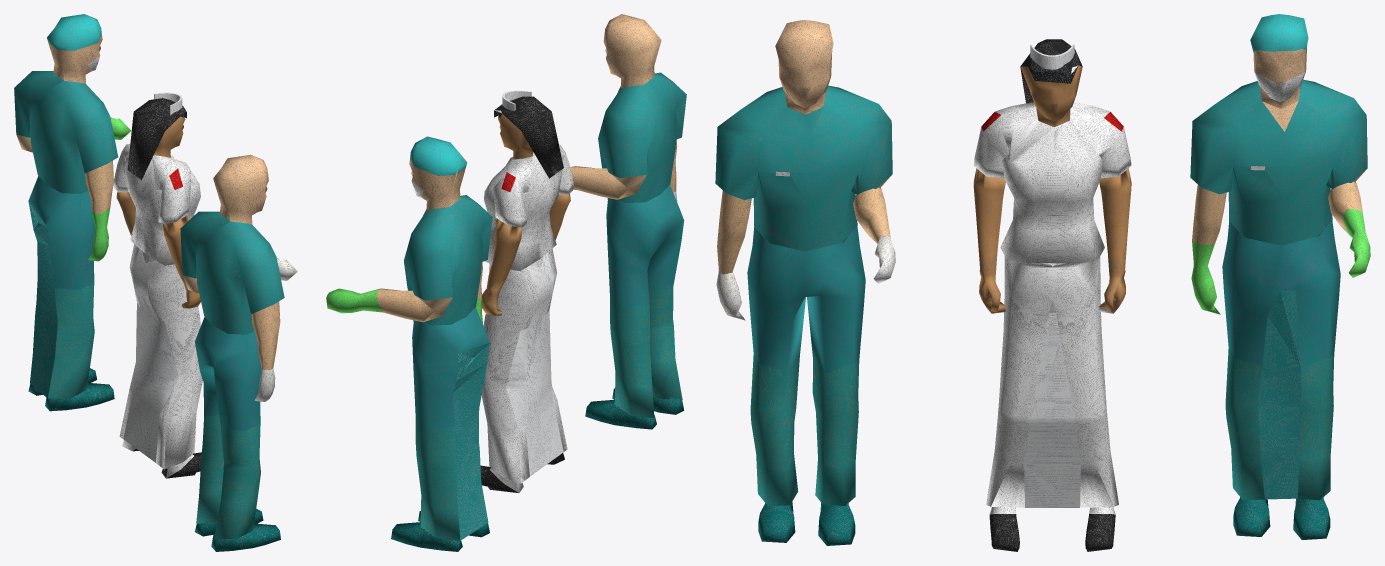
The model's file is staff.dae.
The picture shows the model from 3 angles, left to right: view 1: azimuth 30°, elevation 25°; view 2: azimuth 150°, elevation 25°; view 3: azimuth 270°, elevation 25°; orthographic projection. The views are drawn at different scales.
Visible parts, largest first — view 1: _3D_Man_Standing_1 (×9), _3D_Man_Standing_2 (×9), _3d_woman_standing (×7); view 2: _3D_Man_Standing_2 (×9), _3D_Man_Standing_1 (×8), _3d_woman_standing (×7); view 3: _3D_Man_Standing_2 (×14), _3D_Man_Standing_1 (×10), _3d_woman_standing (×8).
Boxes of the visible parts, x1,y1,x2,y2 form: _3D_Man_Standing_1 (×9): (180, 154, 284, 551); _3D_Man_Standing_2 (×9): (14, 14, 118, 411); _3d_woman_standing (×7): (113, 98, 202, 478); _3D_Man_Standing_2 (×9): (326, 136, 492, 551); _3D_Man_Standing_1 (×8): (570, 14, 686, 429); _3d_woman_standing (×7): (480, 96, 574, 492); _3D_Man_Standing_2 (×14): (1190, 14, 1370, 539); _3D_Man_Standing_1 (×10): (715, 20, 892, 545); _3d_woman_standing (×8): (973, 39, 1131, 551).
Bounding box in the file's own units: 25.91 × 83.53 × 72.68.
